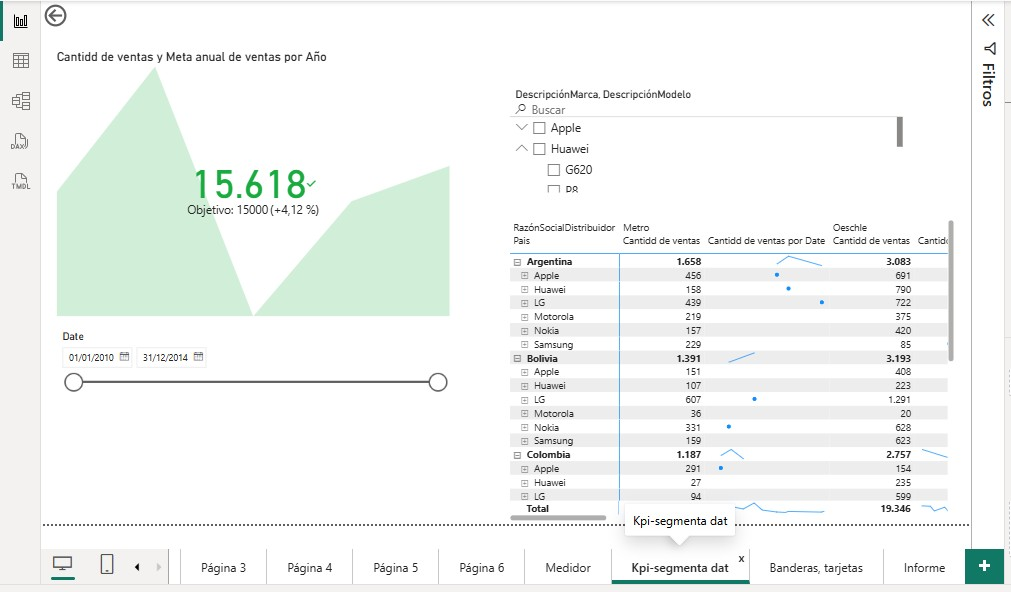

The page's visual inventory and layout, read from the dashboard file:
{"tool":"powerbi","page":{"name":"Kpi-segmenta dat","canvas":[1280,720],"ordinal":7},"visuals":[{"type":"kpi","fields":{"Indicator":["Factura.Cantidd de ventas"],"TrendLine":["Calendario.Date.Variación.Jerarquía de fechas.Año"],"Goal":["Factura.Meta anual de ventas"]},"box":[16.8,65.5,551,372.9],"z":0},{"type":"slicer","fields":{"Values":["Marca.DescripciónMarca","Modelo.DescripciónModelo"]},"box":[640,115.9,551,152.9],"z":1000},{"type":"slicer","fields":{"Values":["Calendario.Date"]},"box":[17,449,551,271],"z":2000},{"type":"pivotTable","fields":{"Rows":["País.Pais","Marca.DescripciónMarca","Modelo.DescripciónModelo"],"Values":["Factura.Cantidd de ventas","SparklineData(Factura.Cantidd de ventas_[Calendario.Date])"],"Columns":["Distribuidor.RazónSocialDistribuidor","Operador.RazónSocialOperador"]},"box":[640,295.6,621.5,425],"z":3000},{"type":"actionButton","box":[0,0,100,40],"z":4000}]}

Visuals, with their boxes on the page's 1280x720 design canvas (x1, y1, x2, y2). These are canvas units, not pixel positions in the 1011x592 screenshot, which may show the page scaled, cropped or inside an application window:
kpi - Factura.Cantidd de ventas x Calendario.Date.Variación.Jerarquía de fechas.Año: crop(17, 66, 568, 438)
slicer - Marca.DescripciónMarca x Modelo.DescripciónModelo: crop(640, 116, 1191, 269)
slicer - Calendario.Date: crop(17, 449, 568, 720)
pivotTable - País.Pais x Marca.DescripciónMarca: crop(640, 296, 1262, 721)
actionButton: crop(0, 0, 100, 40)
